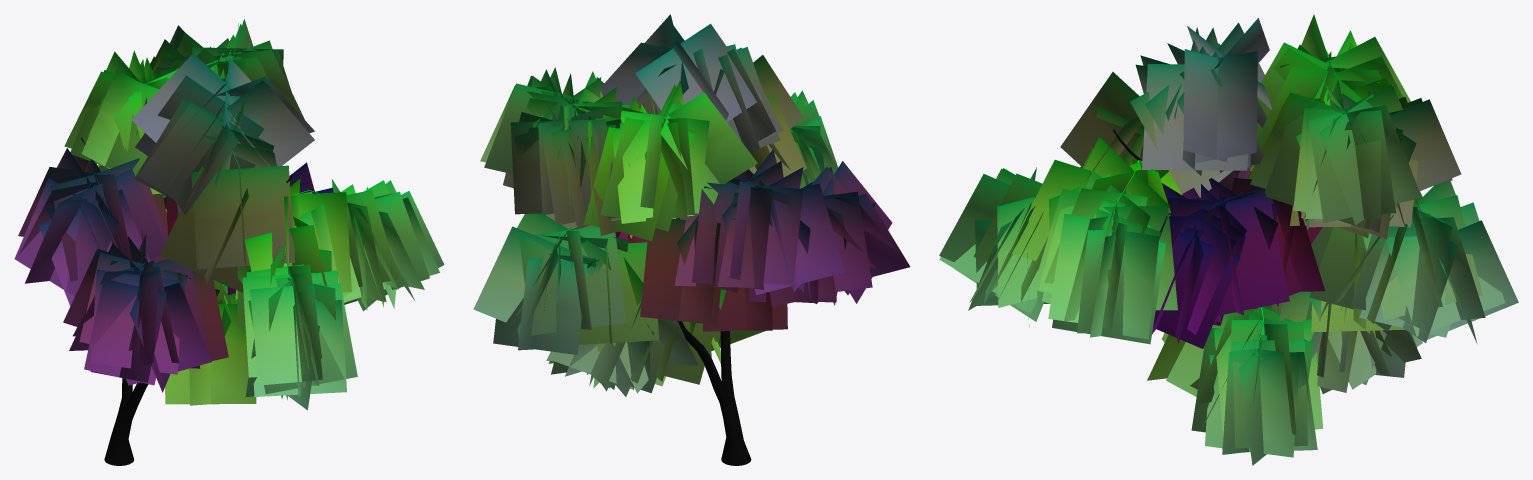
File: URP_P13_Tree_6_LOD_0.fbx
3 views of the same model, side by side, from view 1: azimuth 30°, elevation 25°; view 2: azimuth 150°, elevation 25°; view 3: azimuth 270°, elevation 25° (orthographic). The views are drawn at different scales.
Visible parts, largest first — view 1: Tree_6_LOD_0; view 2: Tree_6_LOD_0; view 3: Tree_6_LOD_0.
Part boxes in pixels (<box>): Tree_6_LOD_0: <box>14,19,444,465</box>; Tree_6_LOD_0: <box>473,14,910,465</box>; Tree_6_LOD_0: <box>939,14,1518,465</box>.
Bounding box in the file's own units: 449 × 490 × 581.
